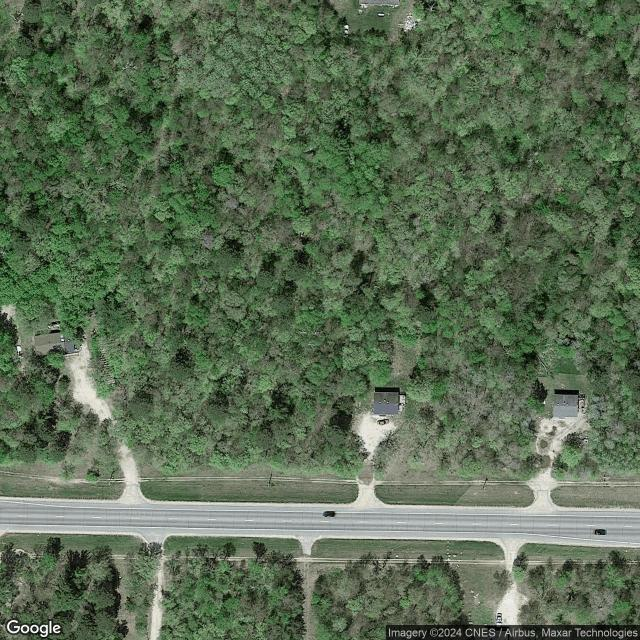Propane: (377, 11, 385, 17), (467, 621, 474, 625), (543, 398, 546, 405)
